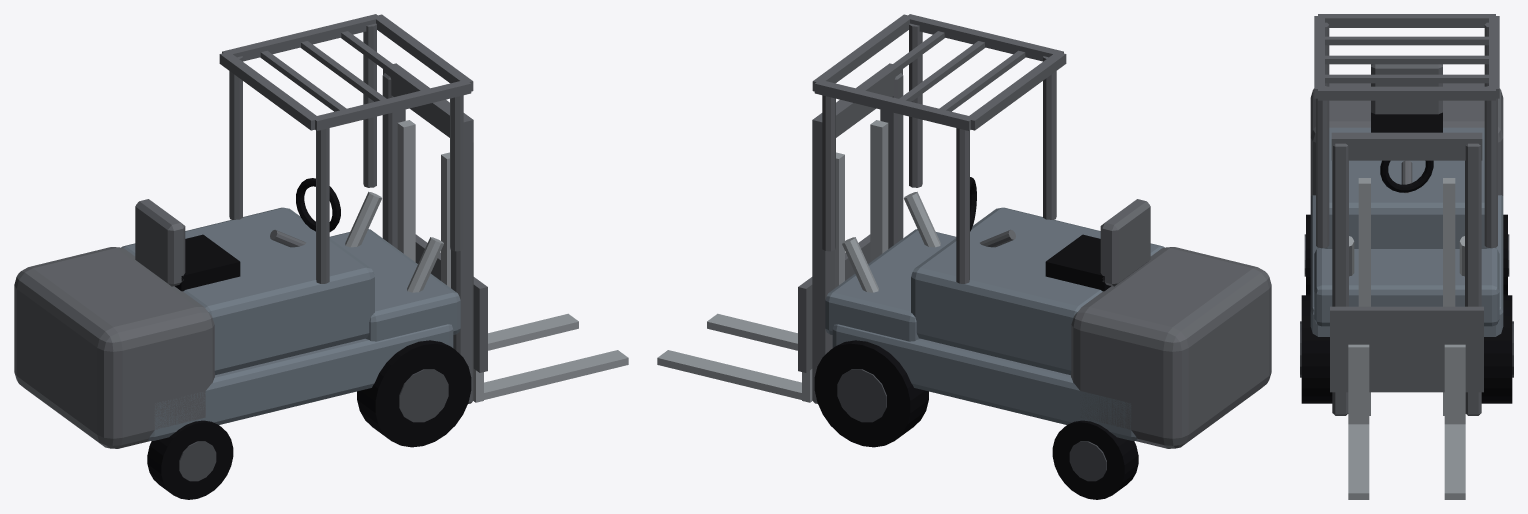
File: bl-forklift.glb
3 views of the same model, side by side, from view 1: azimuth 30°, elevation 25°; view 2: azimuth 150°, elevation 25°; view 3: azimuth 270°, elevation 25° (orthographic). The views are drawn at different scales.
Visible parts, largest first — view 1: forklift; view 2: forklift; view 3: forklift.
Part boxes in pixels (bbox=[...]): forklift: bbox=[14, 14, 628, 499]; forklift: bbox=[657, 14, 1271, 499]; forklift: bbox=[1300, 14, 1513, 499].
Size of the model in its own units: 4.04 by 2.46 by 1.42.
